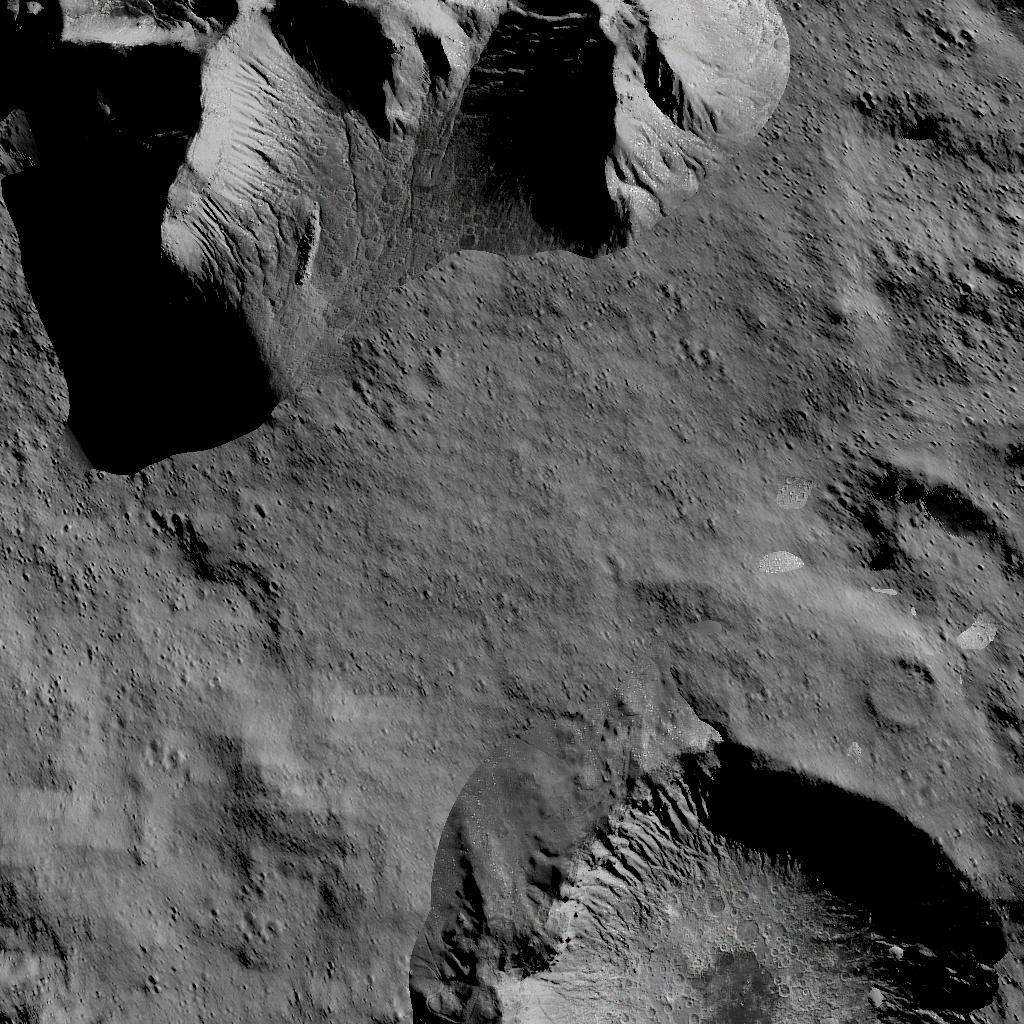Boulders: (5, 0, 790, 474)
Crater: (457, 688, 1024, 1024), (835, 436, 1024, 628), (0, 870, 81, 1024)
Plan surface: (12, 504, 432, 847), (821, 8, 1024, 396), (476, 494, 818, 650), (122, 876, 428, 1024)
